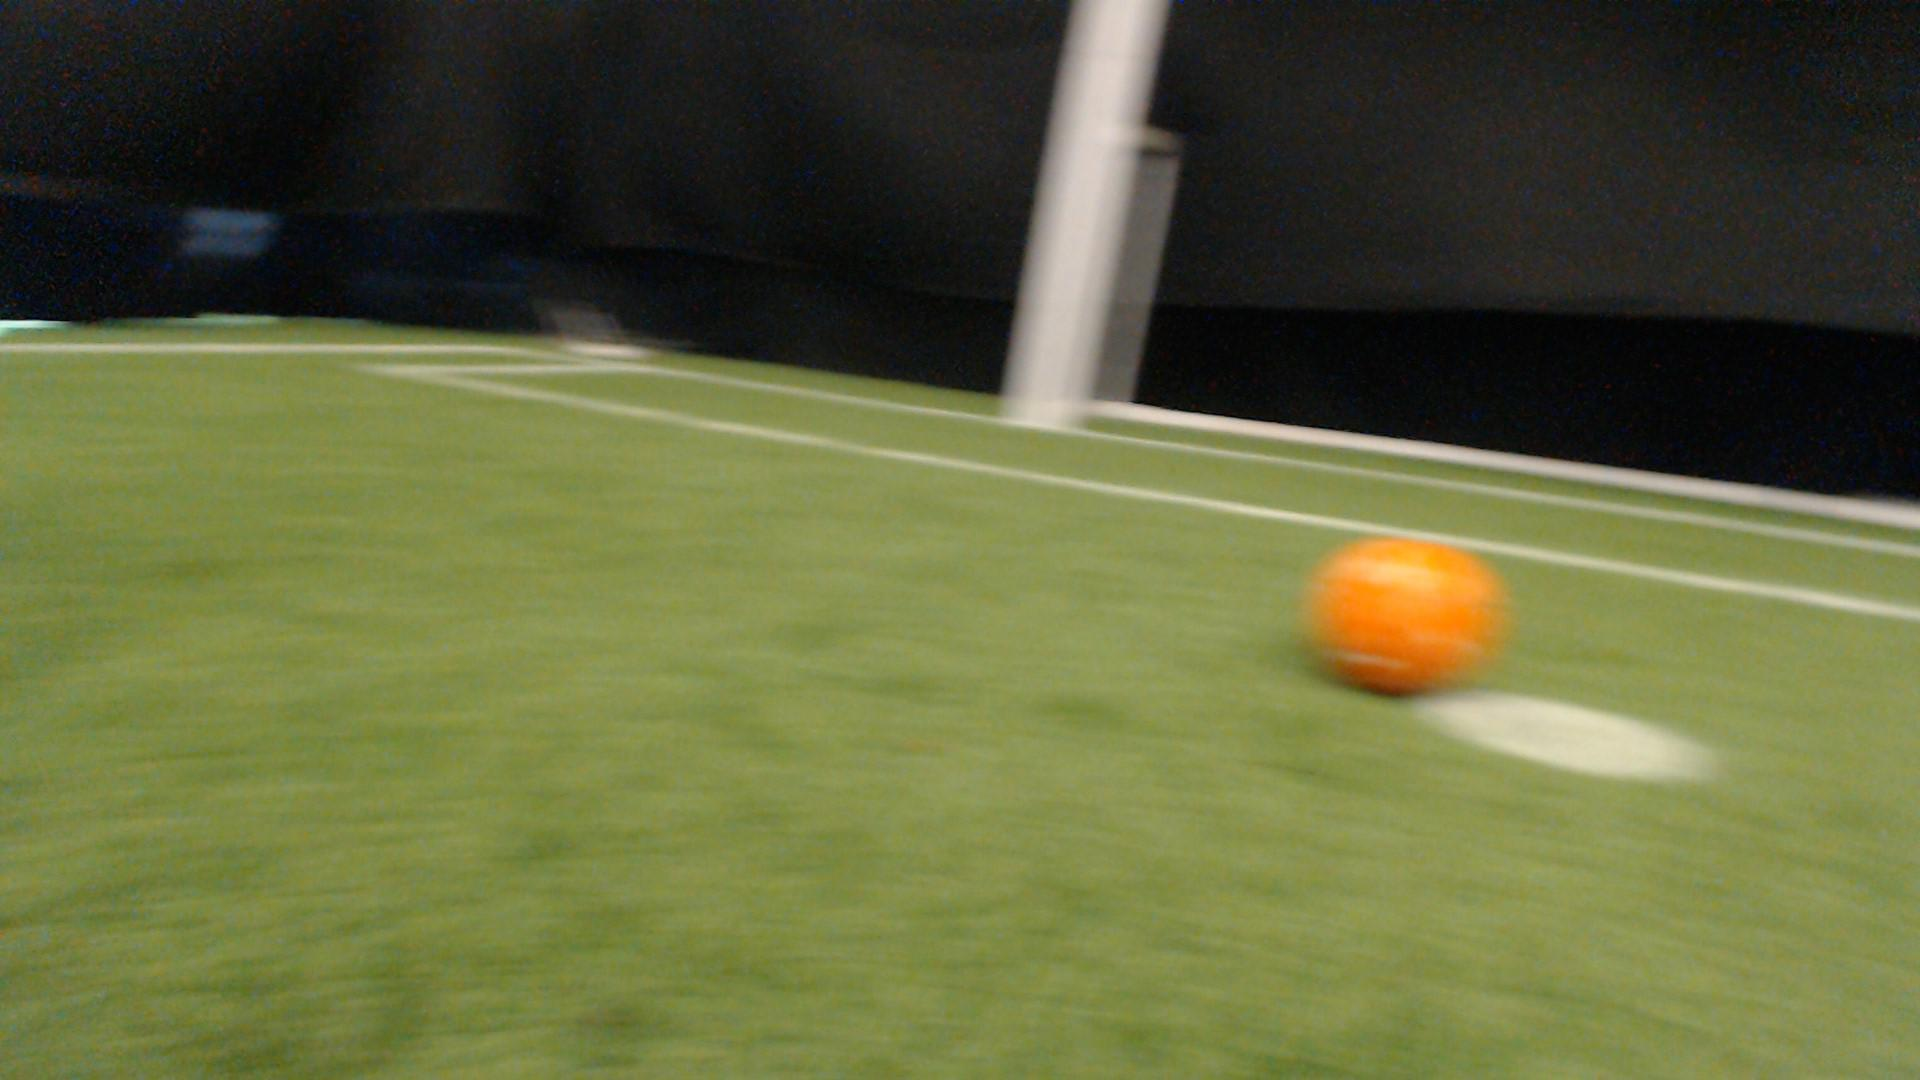bola: (1304, 516, 1520, 698)
